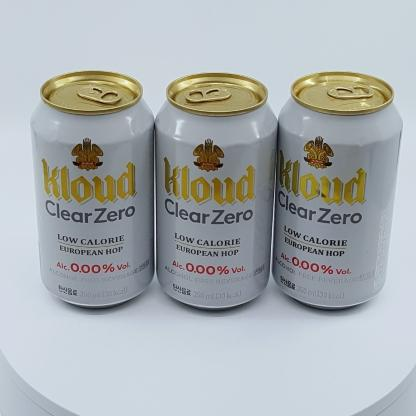--------------350ML: (271, 71, 403, 310), (30, 70, 155, 309), (155, 72, 278, 310)
